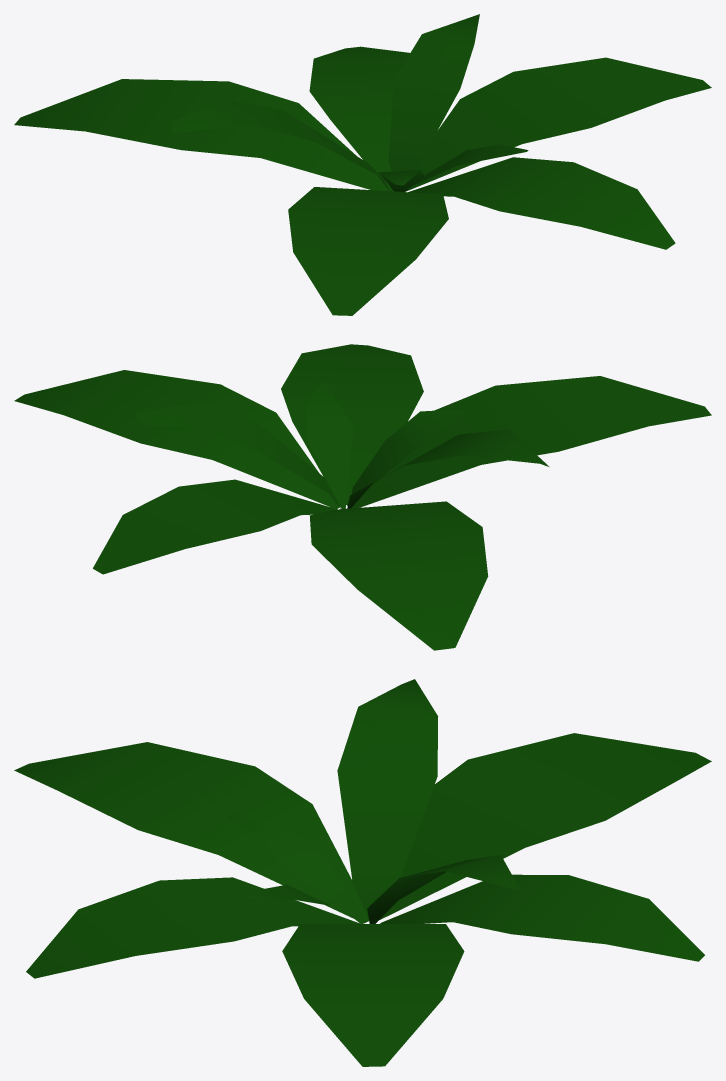
The model's file is Foliage mid.fbx.
3 renders of one model, top to bottom at view 1: azimuth 30°, elevation 25°; view 2: azimuth 150°, elevation 25°; view 3: azimuth 270°, elevation 25°, orthographic. The views are drawn at different scales.
Parts seen in each view (by area): view 1: foliage mid; view 2: foliage mid; view 3: foliage mid.
Part boxes in pixels (bbox=[...]): foliage mid: bbox=[14, 14, 711, 315]; foliage mid: bbox=[14, 344, 711, 650]; foliage mid: bbox=[14, 679, 711, 1066].
Bounding box in the file's own units: 77.89 × 15.27 × 71.75.
